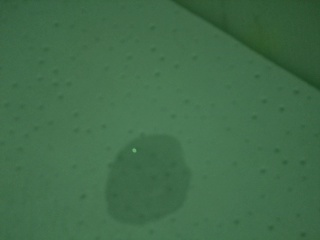Water_detected: (108, 141, 180, 214)
